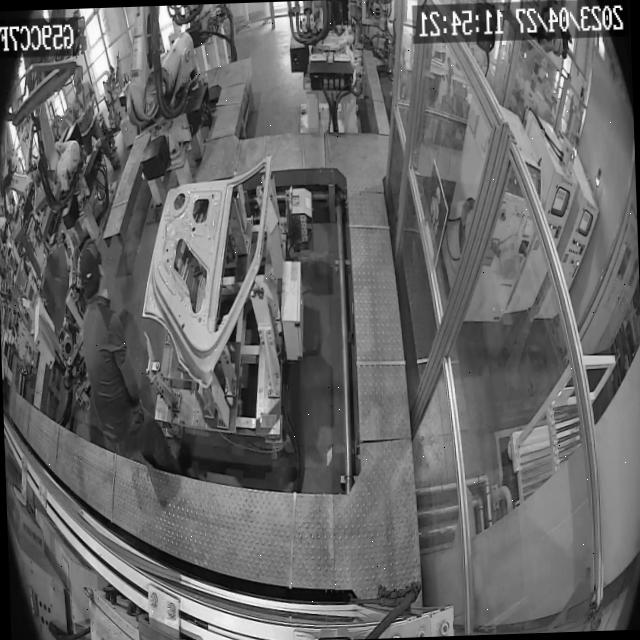Person: (77, 236, 183, 480), (71, 64, 121, 172)
